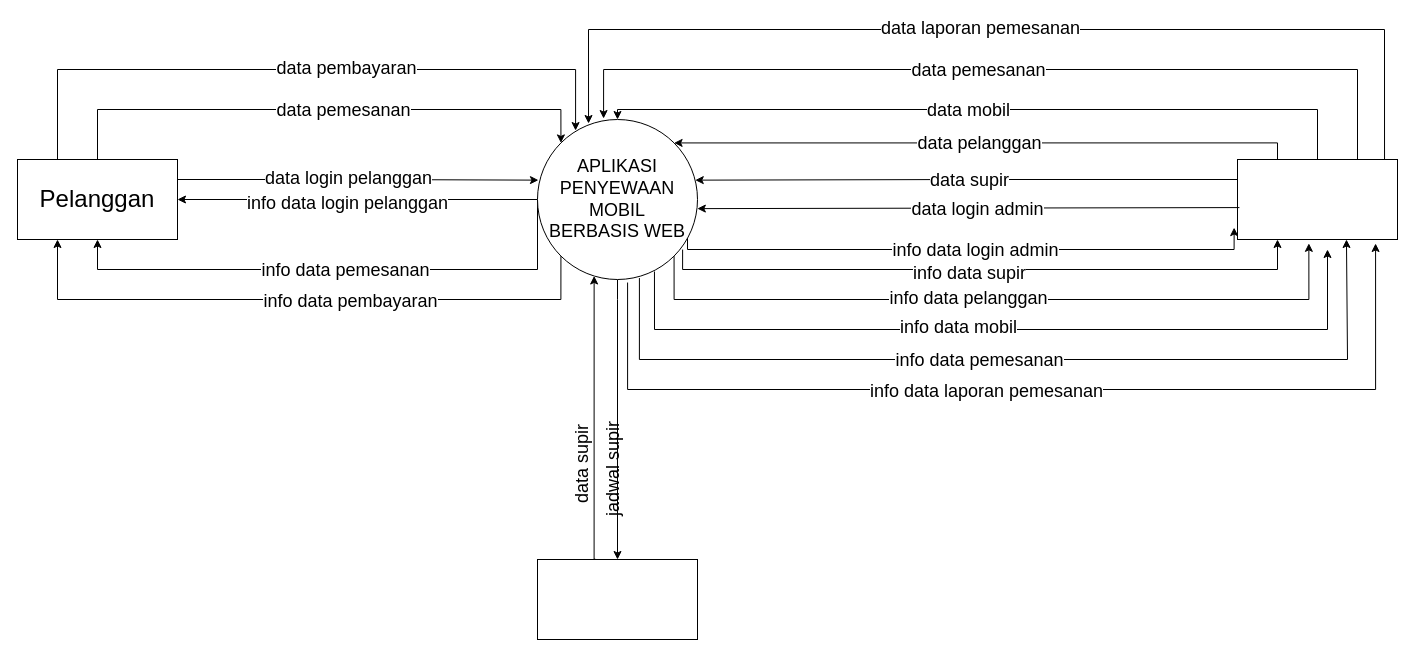
Some shapes in this 1415 by 657 pixel diagram are drawn without their labels. Here are the shapes that lost their labels. From the top down, the centre of each, then its label:
At point 1317,199: "Admin".
At point 617,599: "Supir".
